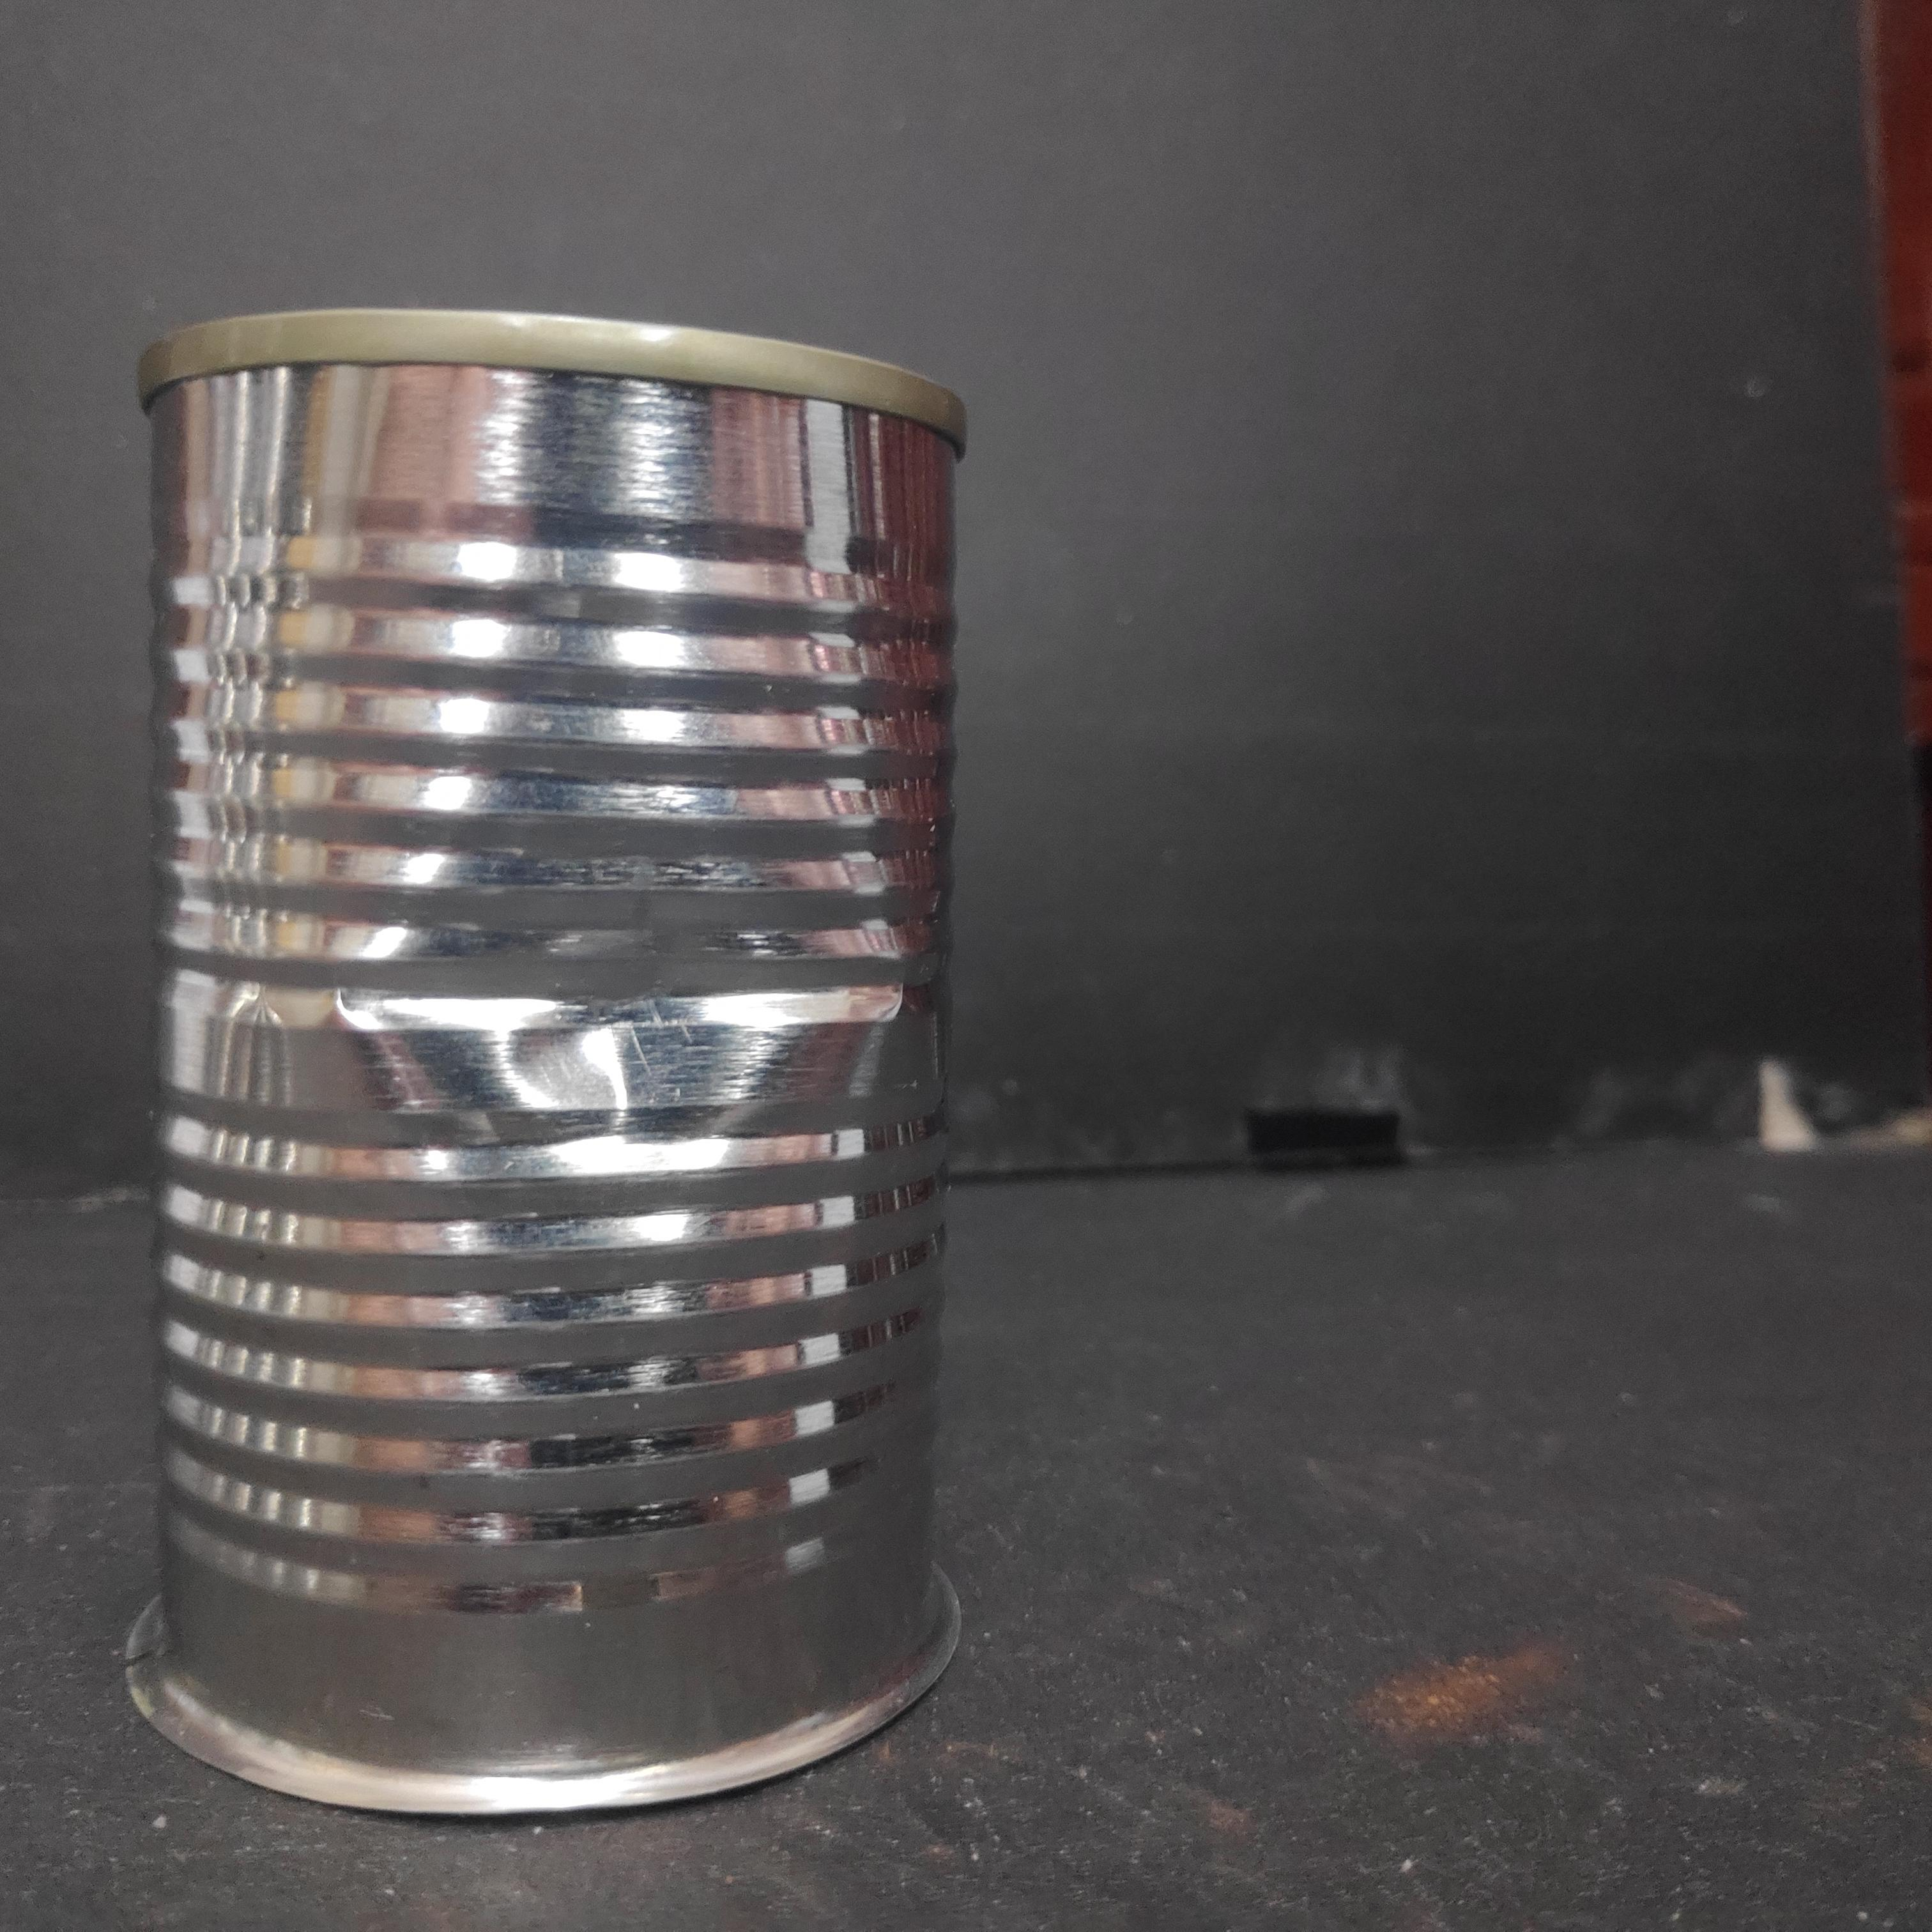Minor Defect: (119, 301, 978, 1840)
